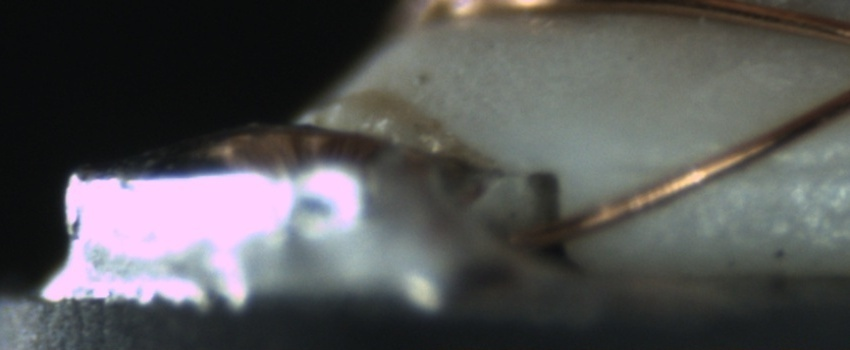DL: (687, 136, 850, 200)
